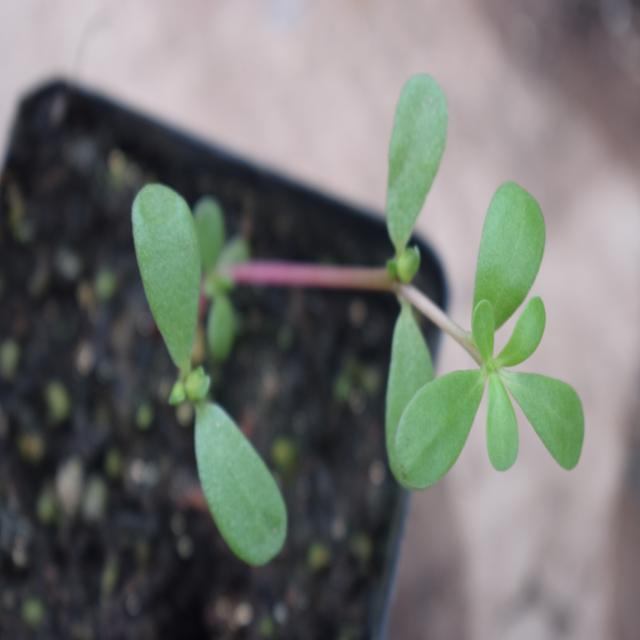purslane: (113, 73, 596, 556)
